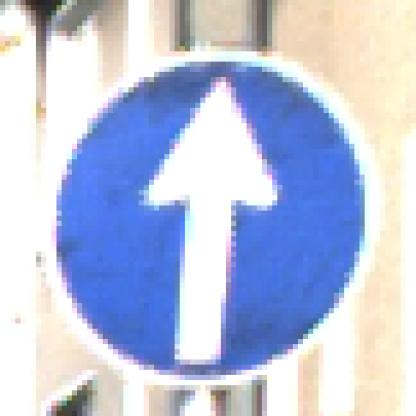AheadOnly: (42, 42, 376, 381)
